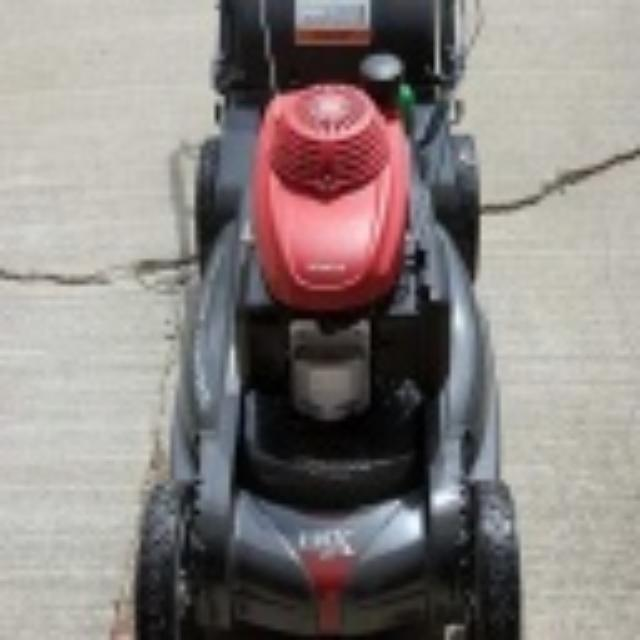Rotary-Mower: (125, 1, 530, 636)
